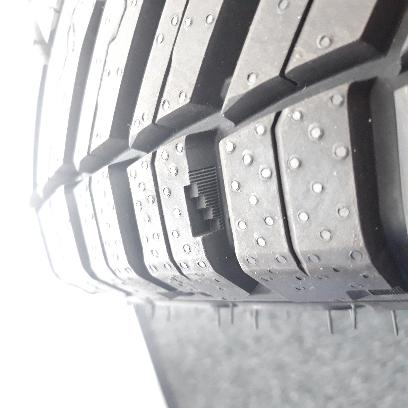temoin:100: (181, 165, 226, 238)
